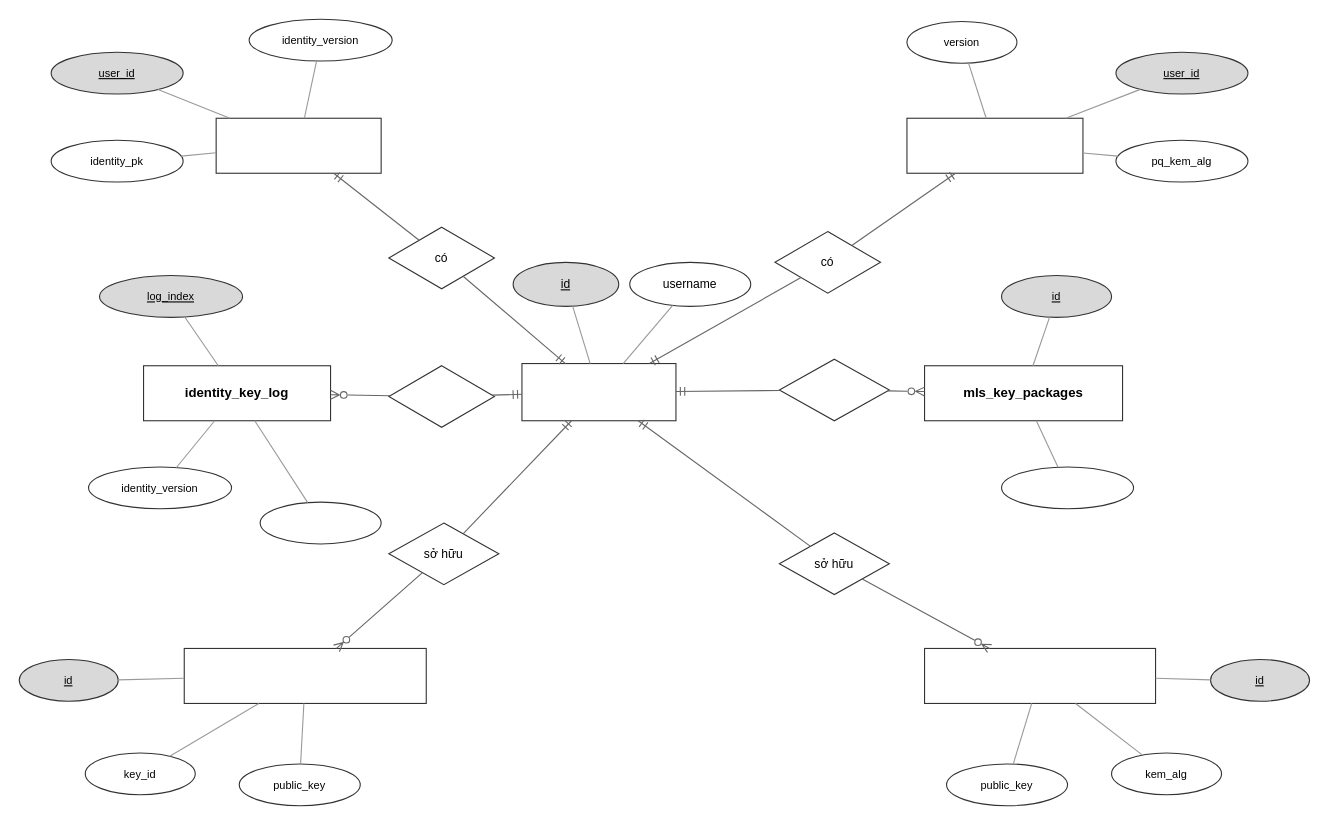
This 1329x825 diagram has some shape labels left out. The centre of each missing label's shape, as x and y in pixels:
ciphersuite: (x=1067, y=487)
công bố: (x=833, y=389)
ghi: (x=441, y=396)
leaf_hash: (x=320, y=522)
pqxdh_bundles: (x=994, y=145)
pqxdh_curve_one_time_prekeys: (x=304, y=675)
pqxdh_pq_one_time_prekeys: (x=1039, y=675)
User: (x=598, y=391)
user_keys: (x=298, y=145)
